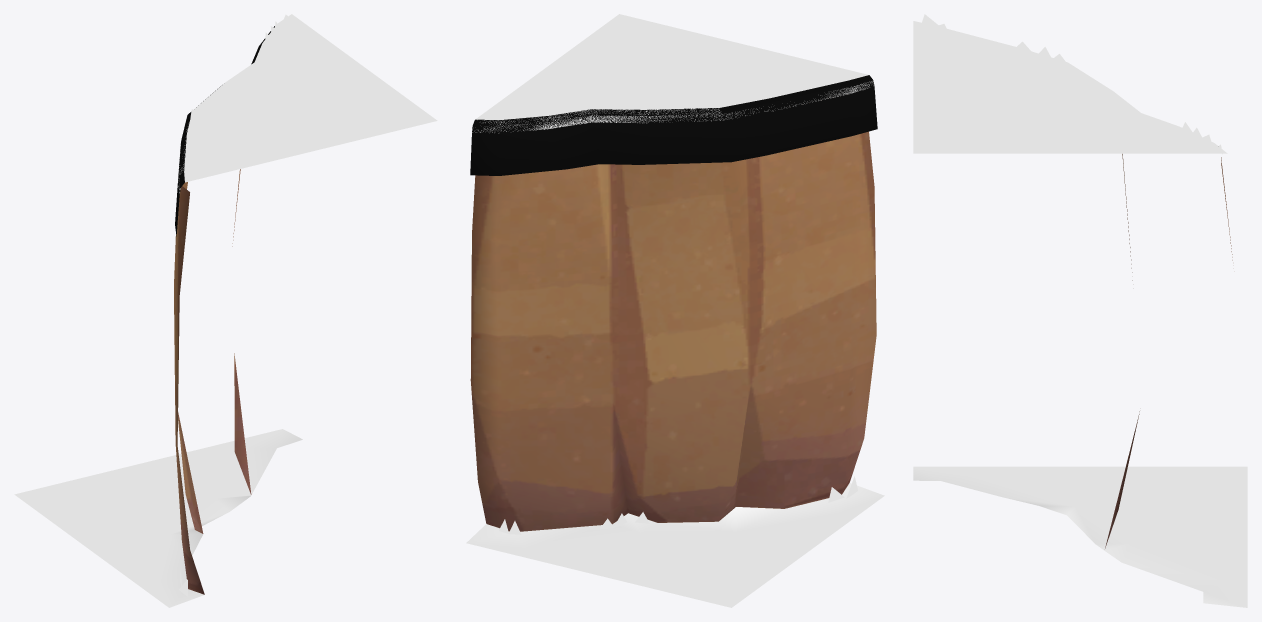
The picture shows the model from 3 angles, left to right: view 1: azimuth 30°, elevation 25°; view 2: azimuth 150°, elevation 25°; view 3: azimuth 270°, elevation 25°; orthographic projection. The views are drawn at different scales.
Parts seen in each view (by area): view 1: GrassT__mGrass, GrassB__mGrass, Cliff__mCliff, GrassOP__mGrassCliffXlu; view 2: Cliff__mCliff, GrassOP__mGrassCliffXlu, GrassT__mGrass, GrassB__mGrass, PGrassBC__mProcGrass; view 3: GrassT__mGrass, GrassB__mGrass, PGrassBC__mProcGrass, Cliff__mCliff.
Boxes of the visible parts, box(x1,y1,x2,y2) form: GrassT__mGrass: box(178, 14, 437, 193); GrassB__mGrass: box(14, 429, 302, 607); Cliff__mCliff: box(174, 169, 251, 594); GrassOP__mGrassCliffXlu: box(175, 26, 274, 236); Cliff__mCliff: box(470, 131, 876, 531); GrassOP__mGrassCliffXlu: box(470, 75, 877, 175); GrassT__mGrass: box(472, 14, 873, 133); GrassB__mGrass: box(466, 483, 884, 607); PGrassBC__mProcGrass: box(499, 476, 857, 534); GrassT__mGrass: box(913, 21, 1227, 153); GrassB__mGrass: box(913, 466, 1247, 607); PGrassBC__mProcGrass: box(921, 14, 1222, 154); Cliff__mCliff: box(1105, 154, 1232, 548).
Bounding box in the file's own units: 10 × 15.49 × 10.
Materials: 4 (1 with a texture image).
